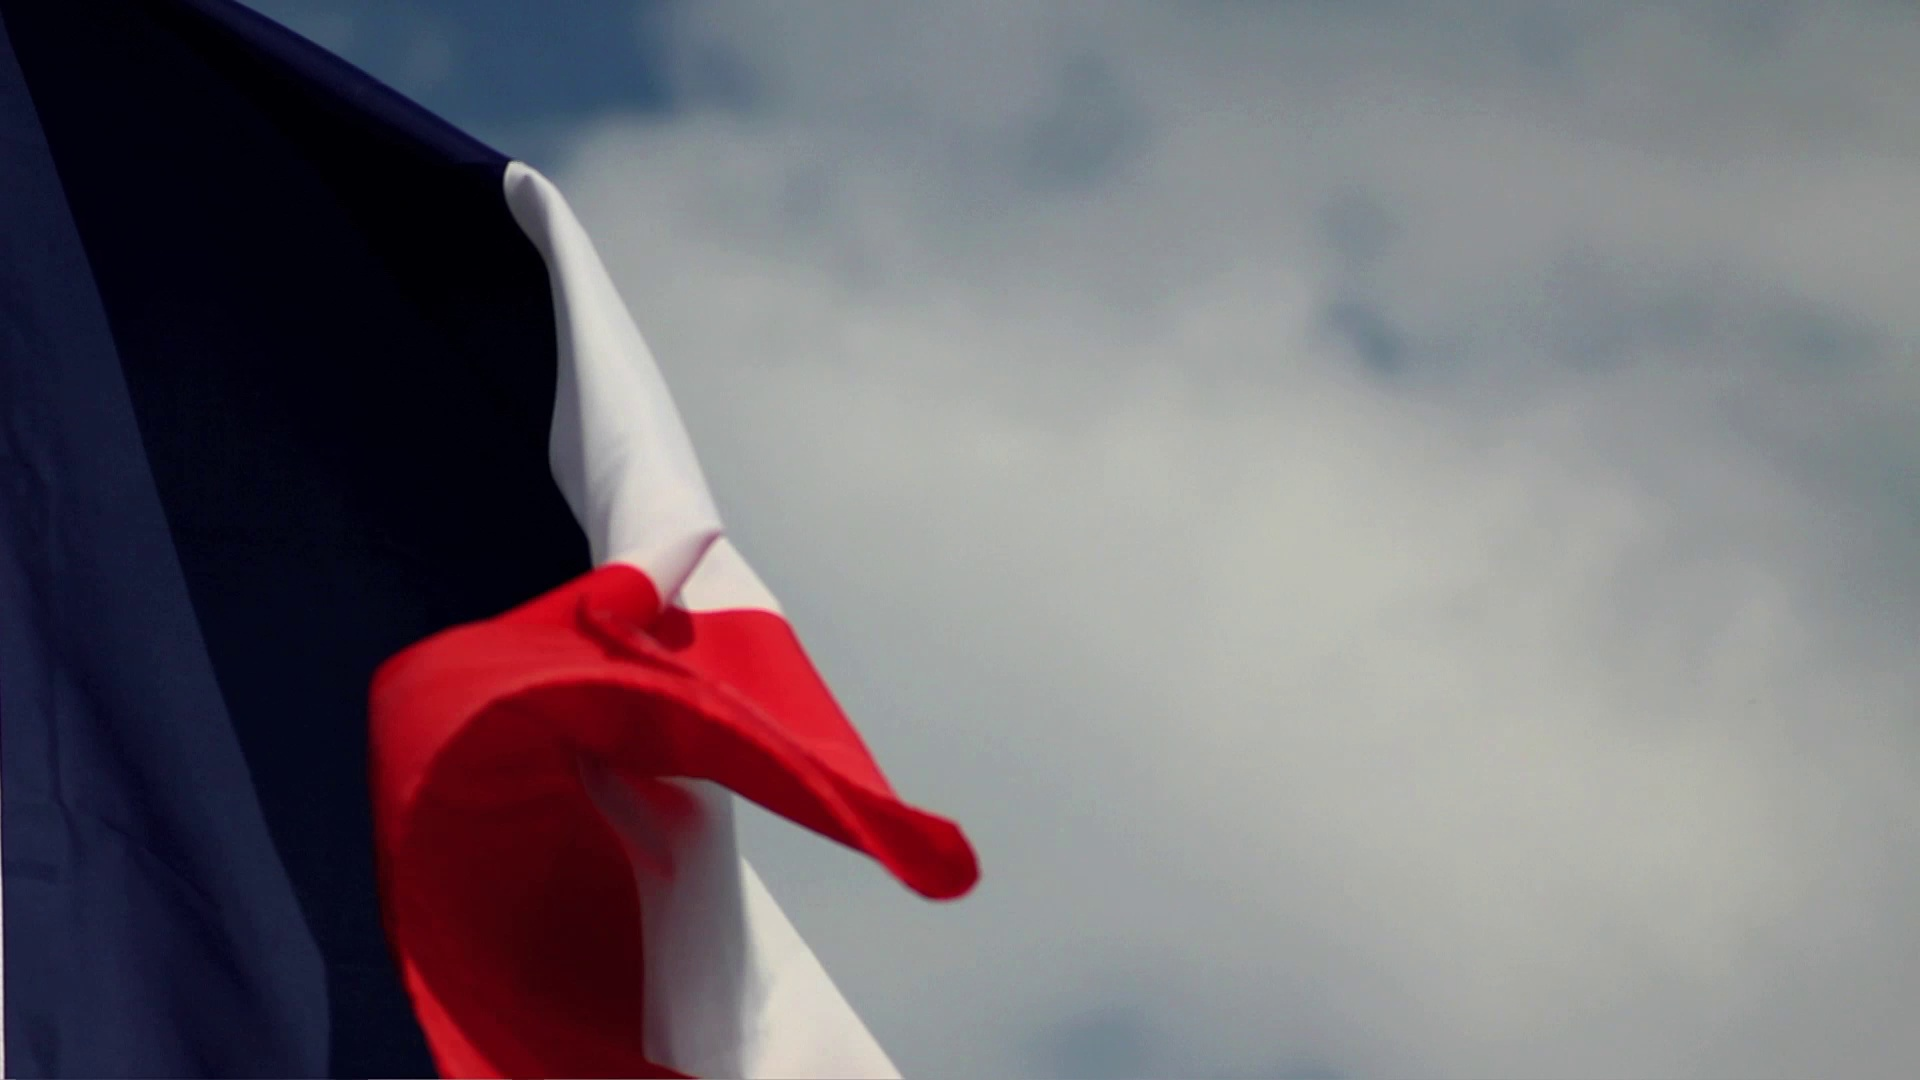French Flag: (1, 1, 984, 1080)
